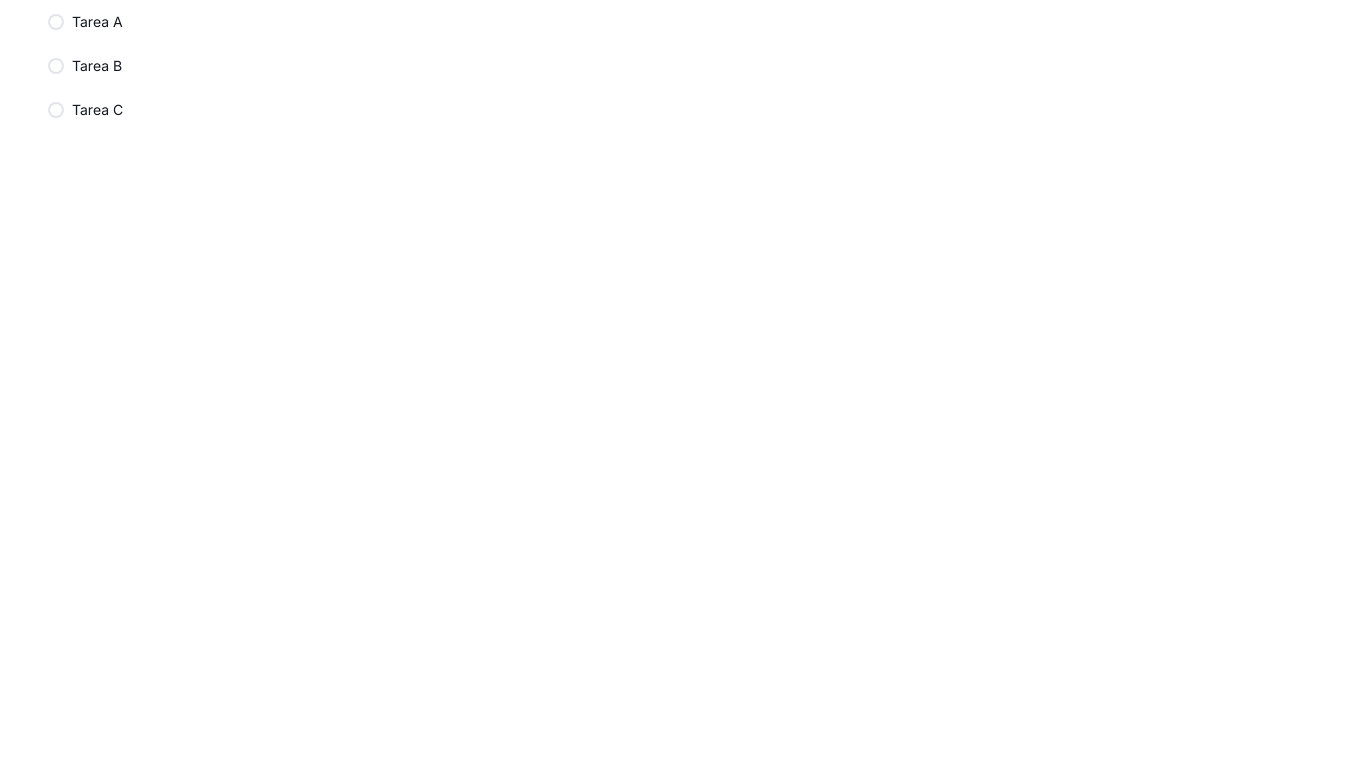
Test: TaskRow — Enter y Espacio sobre la fila señalada (bloque 4) › Enter abre el detalle de la fila señalada
Focus the option "Tarea B": (684, 66) [44, 54, 1324, 78]
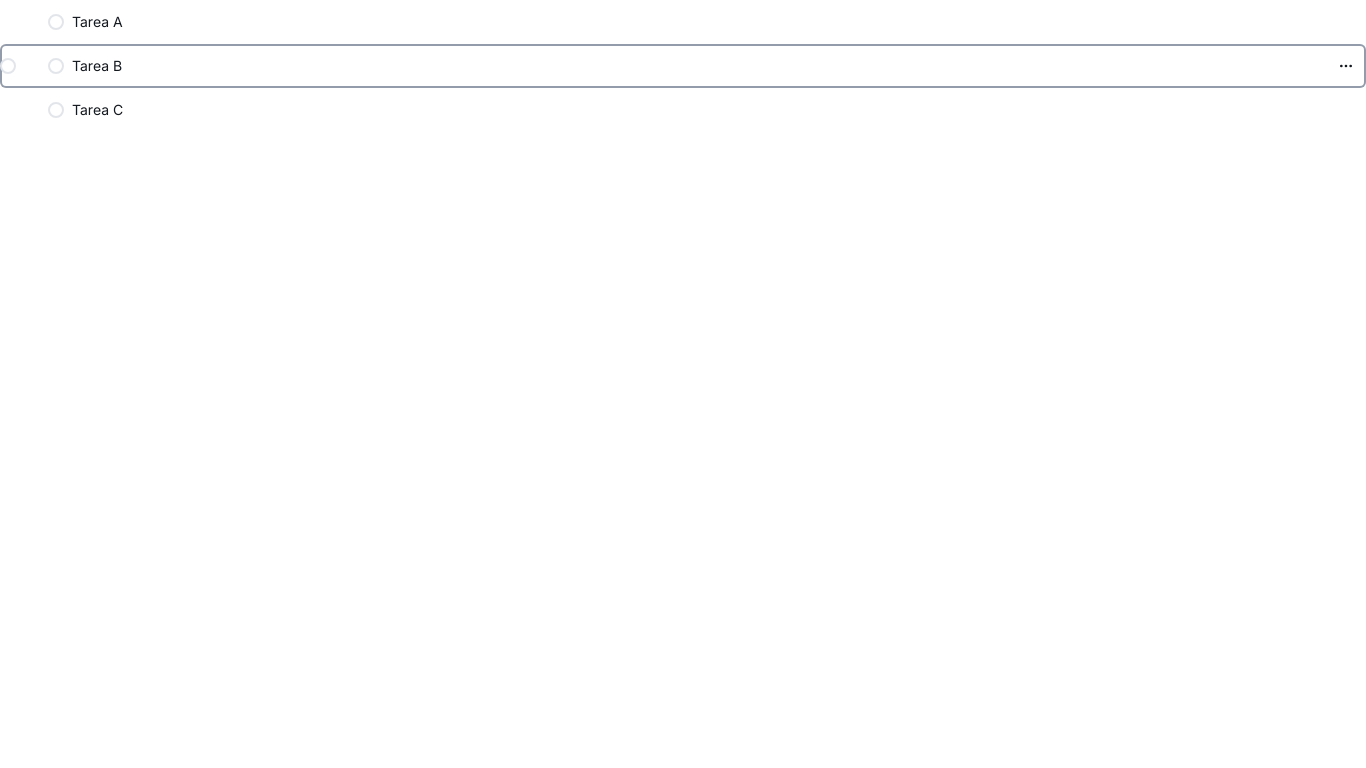
Press Enter
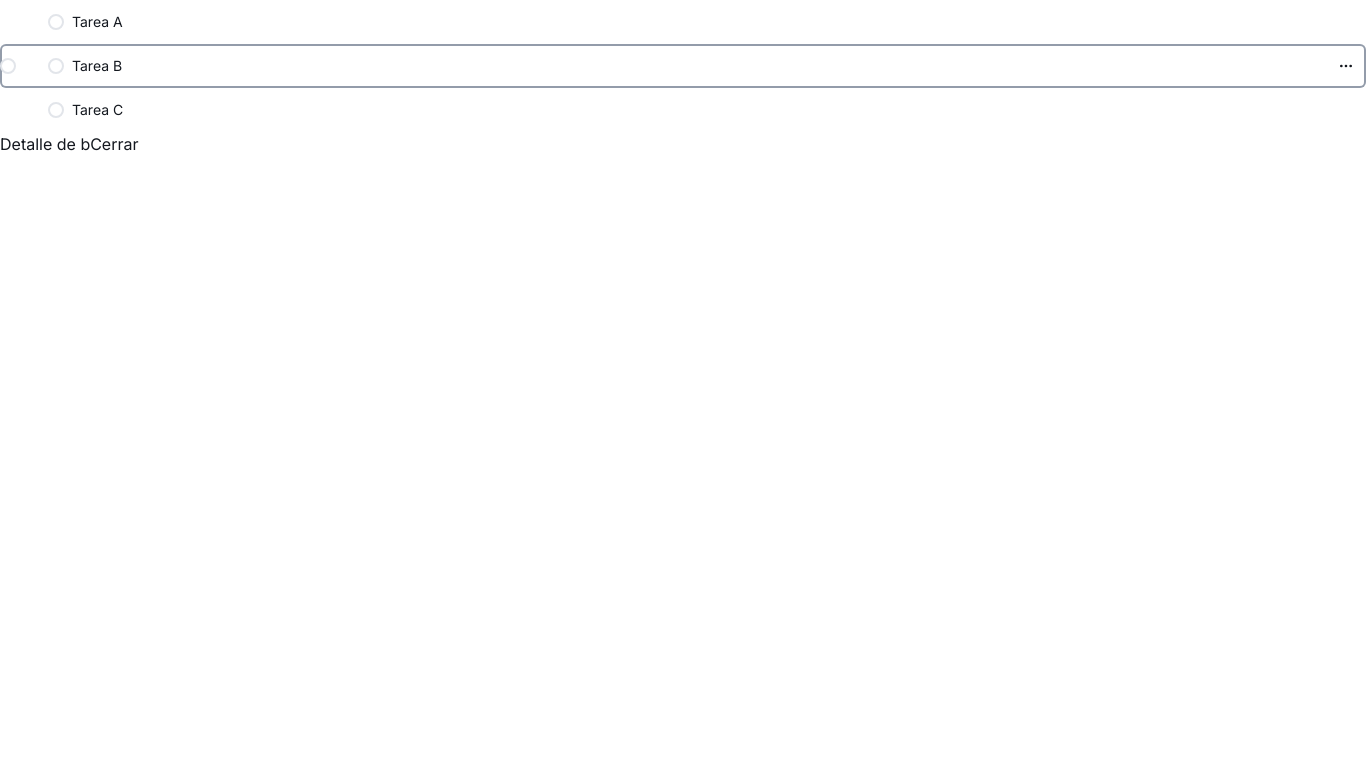
Check: the dialog shows "Detalle de b", box [0, 132, 138, 156]
